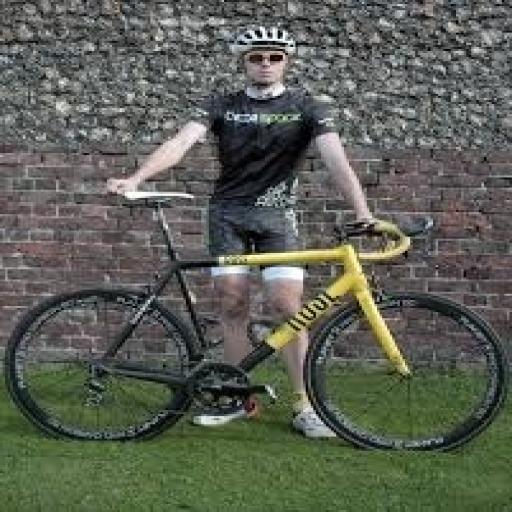cycling: (102, 22, 397, 442)
